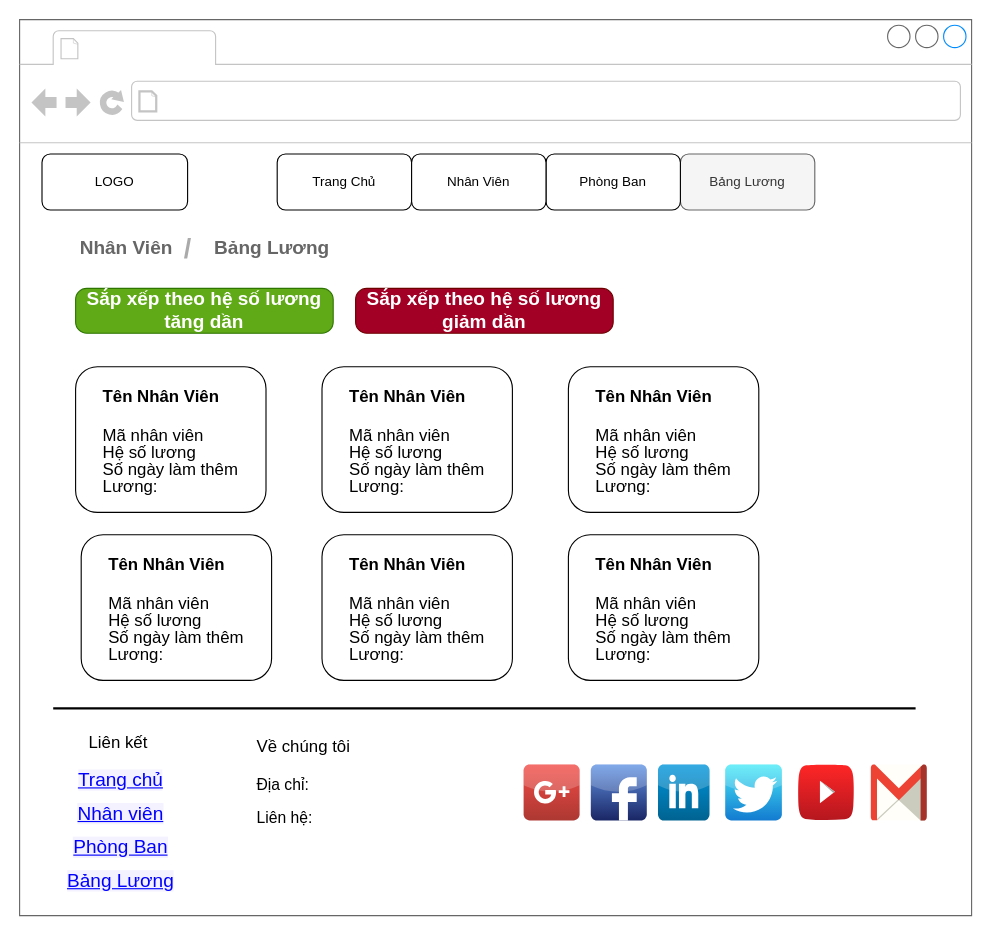
The diagram is 991 pixels wide and 935 high, and some of its shapes have lost their labels. Here are the shapes that lost their labels. From the top down, the centre of each, then its label:
At [148,47]: "React App".
At [304,101]: "http://localhost:3000/bangluong".
